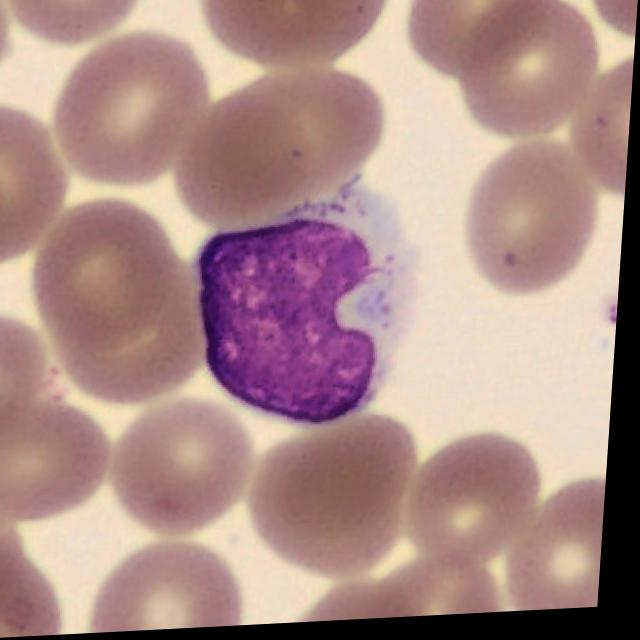Linfocito atipico: (201, 189, 422, 430)
